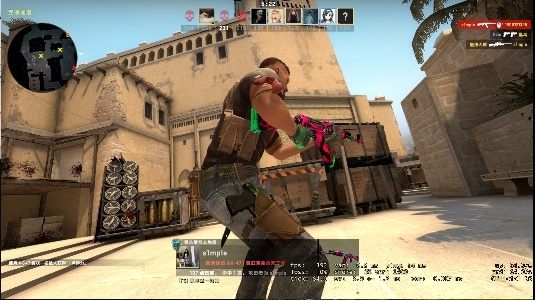body: (189, 58, 343, 300)
head: (259, 58, 292, 92)
